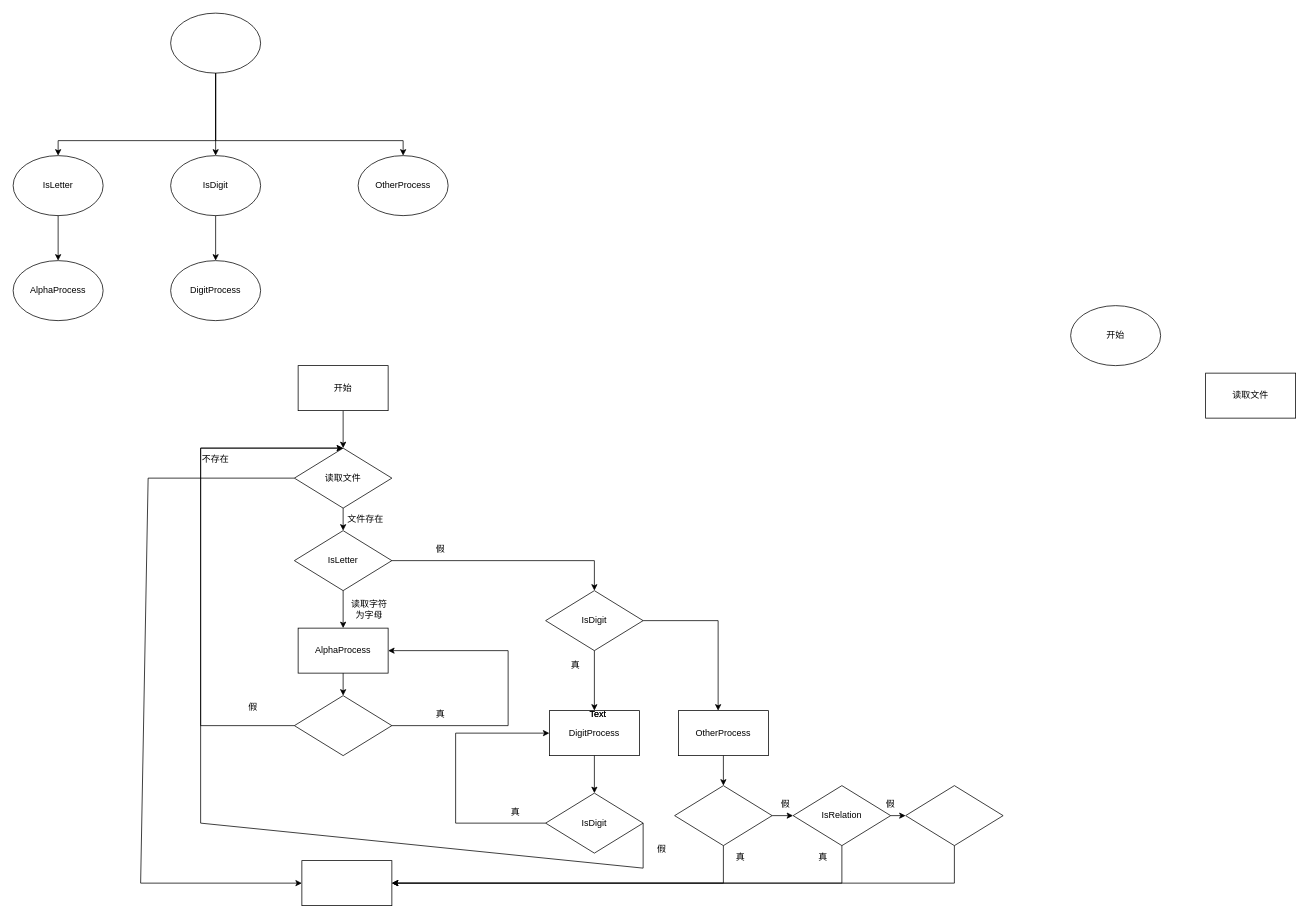
Image size: 1309x919. Some labels were removed from this diagram. Here are the shapes that lost their labels. From the top down, the centre of each, then its label:
the point at 215,42: 主函数main()
the point at 343,725: IsLetter或IsDigit
the point at 723,815: IsArithmetic
the point at 954,815: IsBorder
the point at 346,883: 结束
